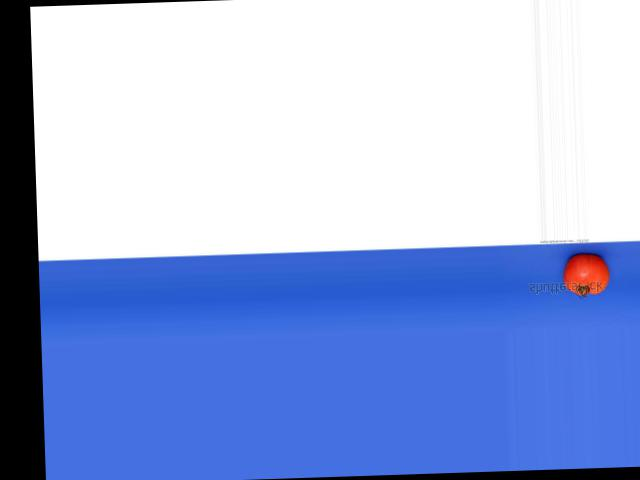tomato: (563, 253, 611, 295)
